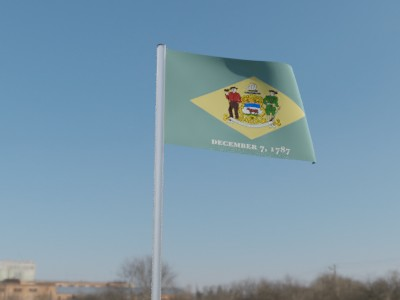Delaware flag: (165, 51, 326, 165)
